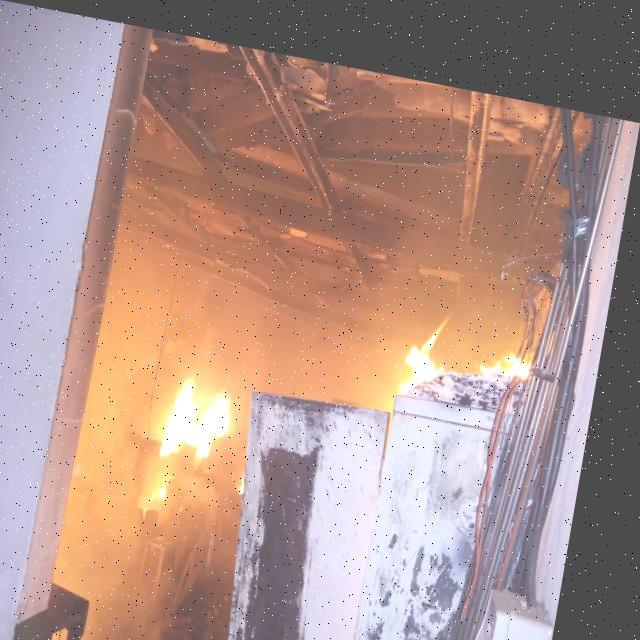Fire: (174, 362, 250, 454), (406, 289, 468, 384), (488, 325, 542, 361), (166, 474, 183, 496), (252, 462, 260, 483)
